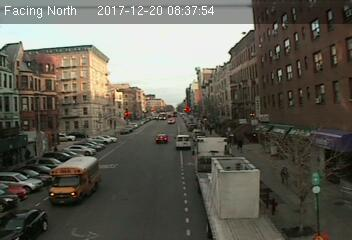car: (155, 133, 168, 144)
truck: (193, 134, 288, 240), (46, 156, 101, 202), (175, 133, 191, 151)
